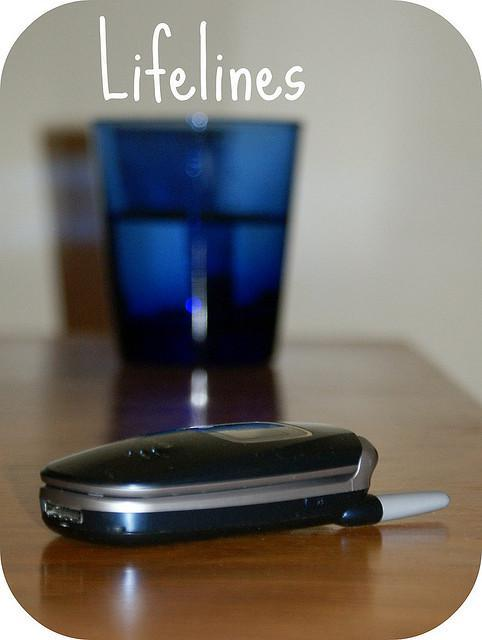phone: (41, 413, 417, 558)
